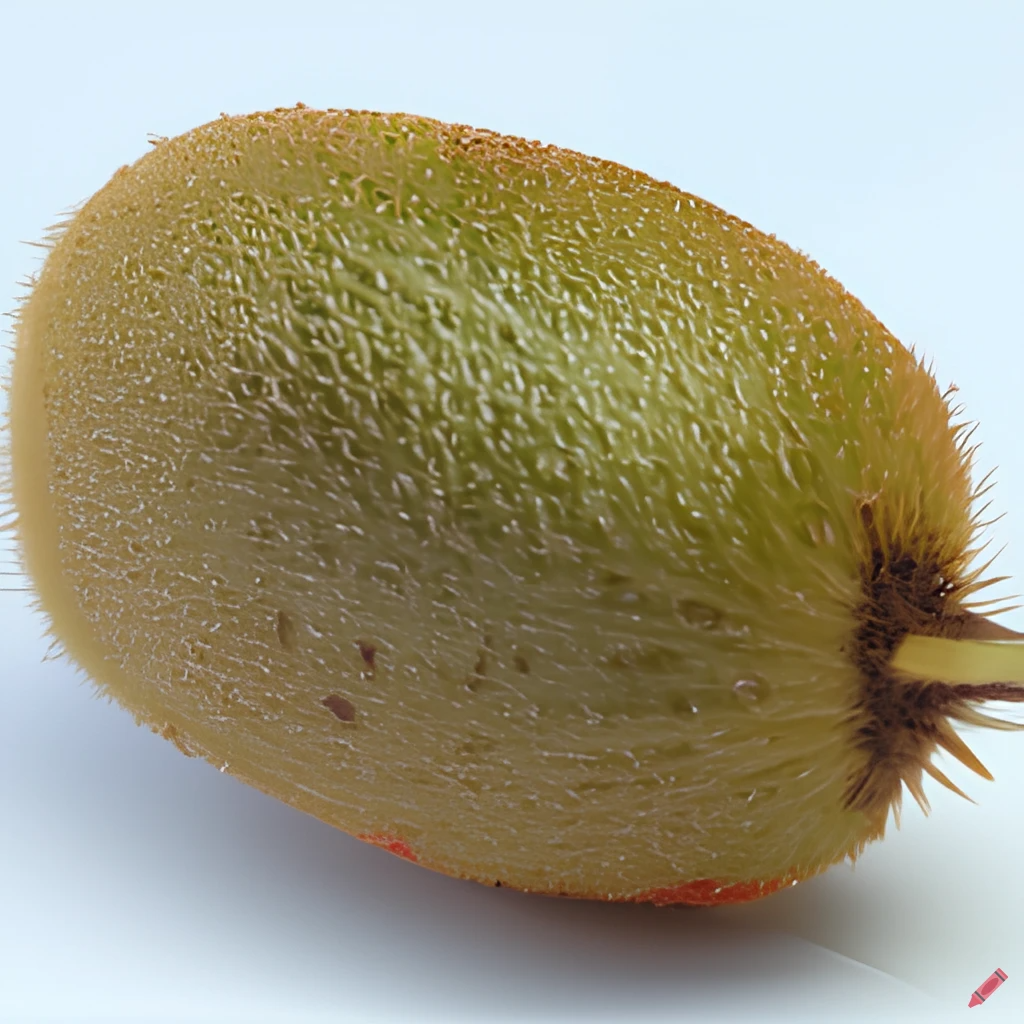Kiwi: (9, 107, 914, 916)
